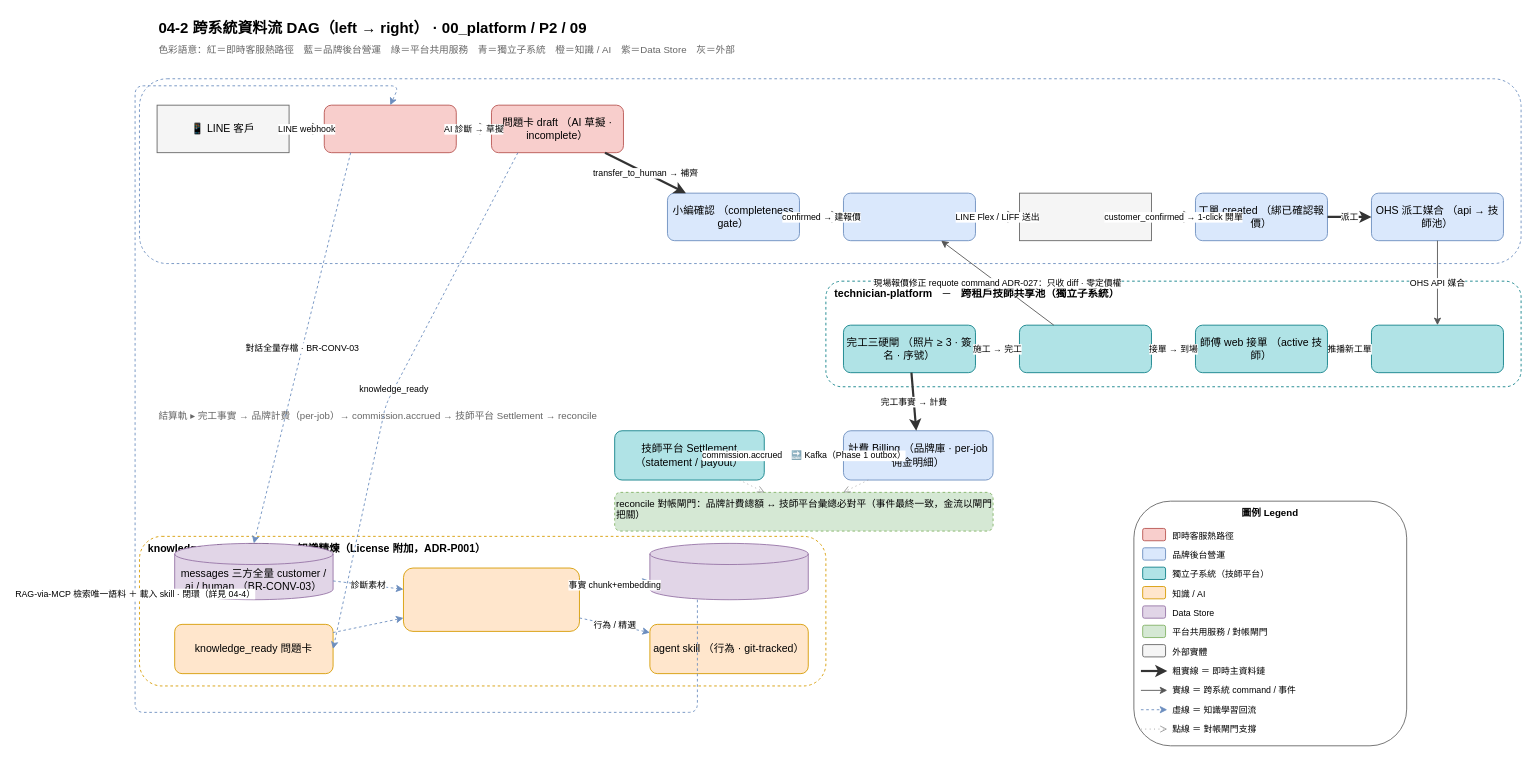
Some shapes in this 1536 by 761 pixel diagram are drawn without their labels. Here are the shapes that lost their labels. From the top down, the box of each, then its label:
(323, 104, 456, 153): agent 對話 （LockCore 客服）
(139, 78, 1521, 264): 品牌 per-brand bundle ─ 客服熱路徑（紅）＋ 後台營運（藍）
(843, 192, 975, 241): 報價引擎 線上估價 → 送客戶
(1019, 192, 1151, 241): 客戶 LIFF 確認 （postback 同意）
(1019, 324, 1151, 373): 現場 到府 / 門檢 / 存證
(1371, 324, 1503, 373): tech-api （技師平台）
(649, 543, 808, 600): 品牌庫 pgvector 唯一事實語料
(403, 567, 579, 631): knowledge-refinery raw → bronze → silver → HITL 審核
